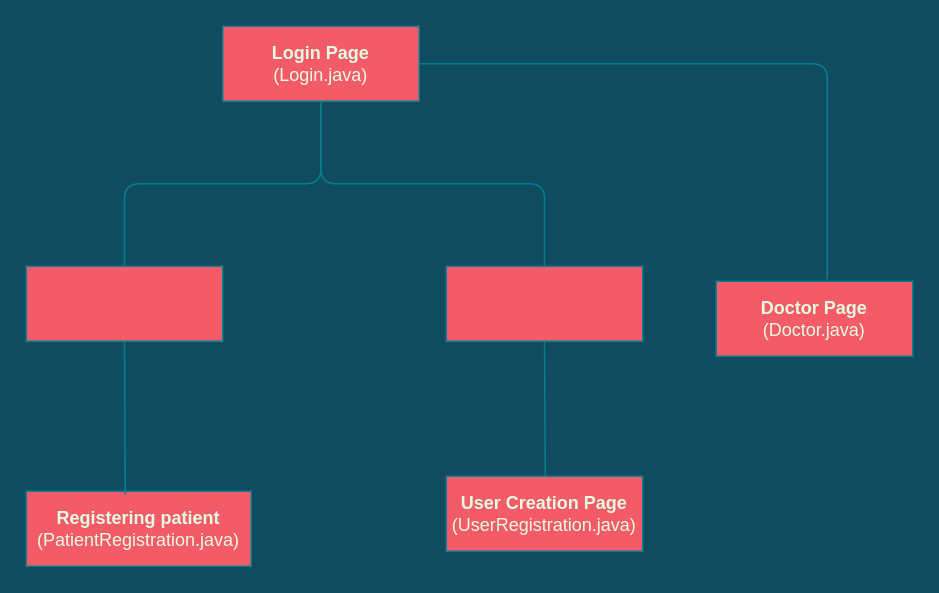
Image size: 939x593. Some labels were removed from this diagram. Here are the shapes that lost their labels. From the top down, the centre of each, then its label:
At (x=124, y=303): "Receiptionist Page (Receiptionist.java)".
At (x=544, y=303): "Admin Page (Admin.java)".
